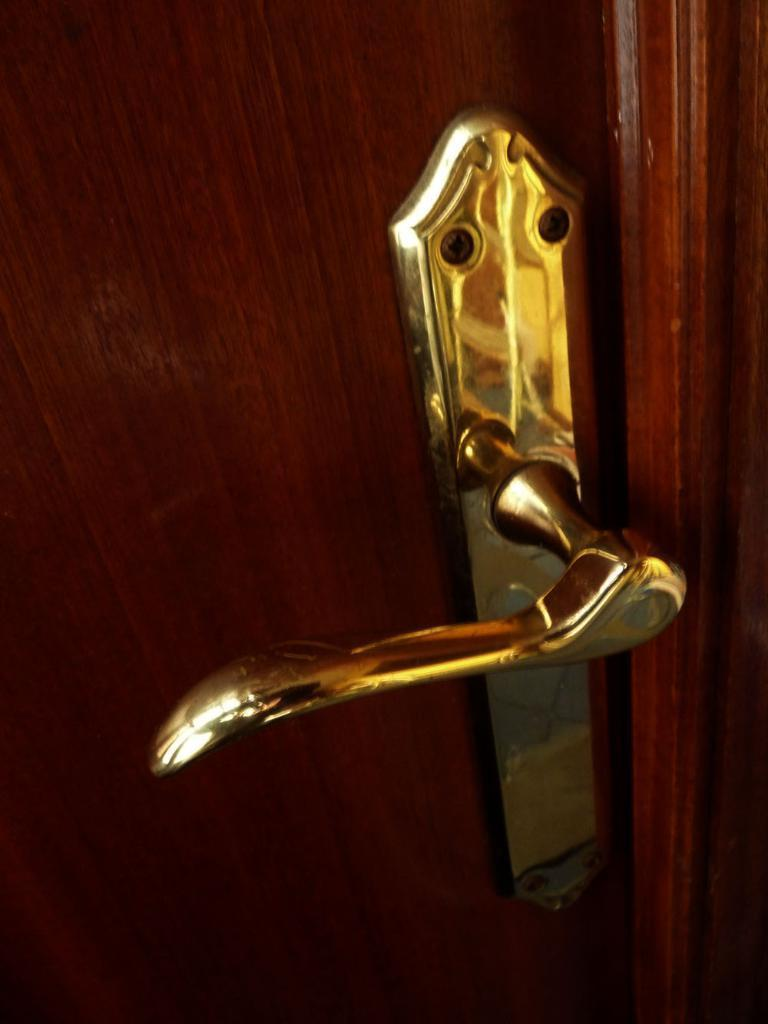handle: (141, 106, 718, 922)
